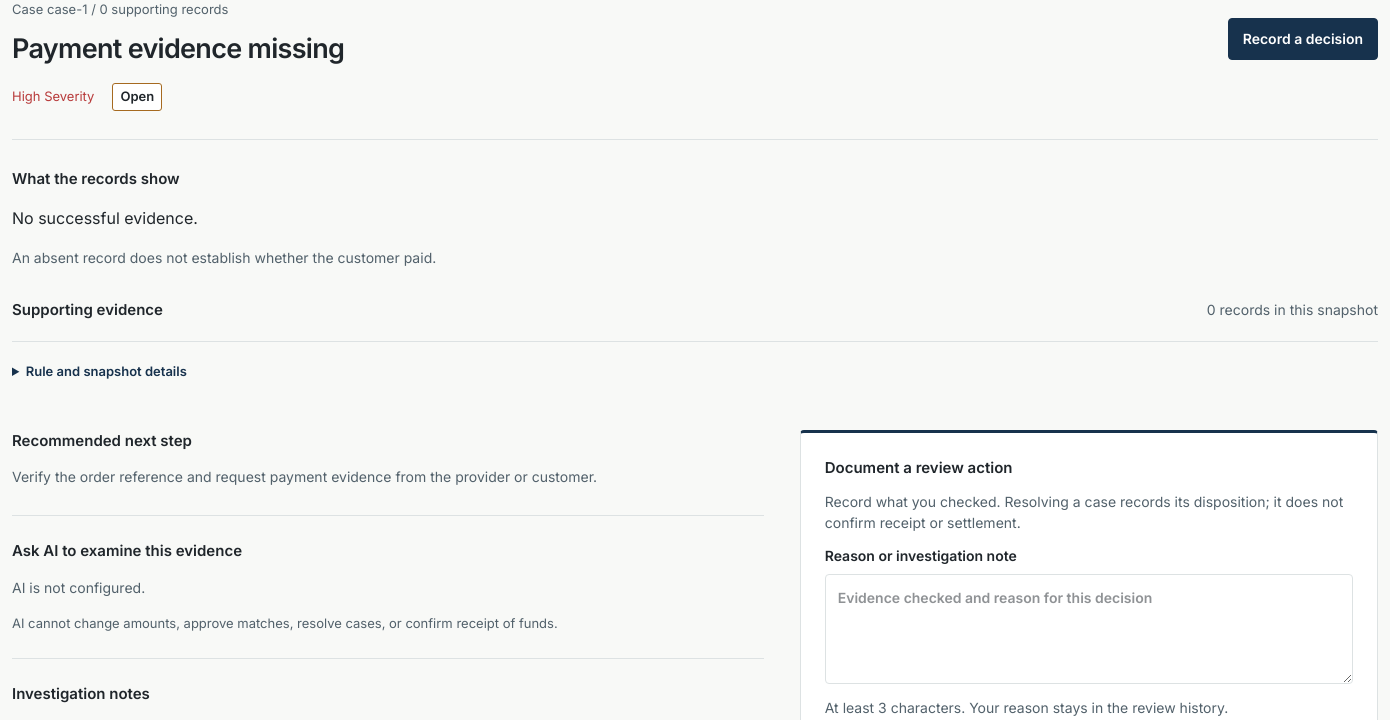
Test: requires a documented reason and submits the current case version
The image size is (1390, 720).
Type "Checked the source statement." into the text box labelled "Reason or investigation note".
click(1089, 629); type("Checked the source statement.")  # box left=825, top=574, right=1353, bottom=684
(page scrolled)
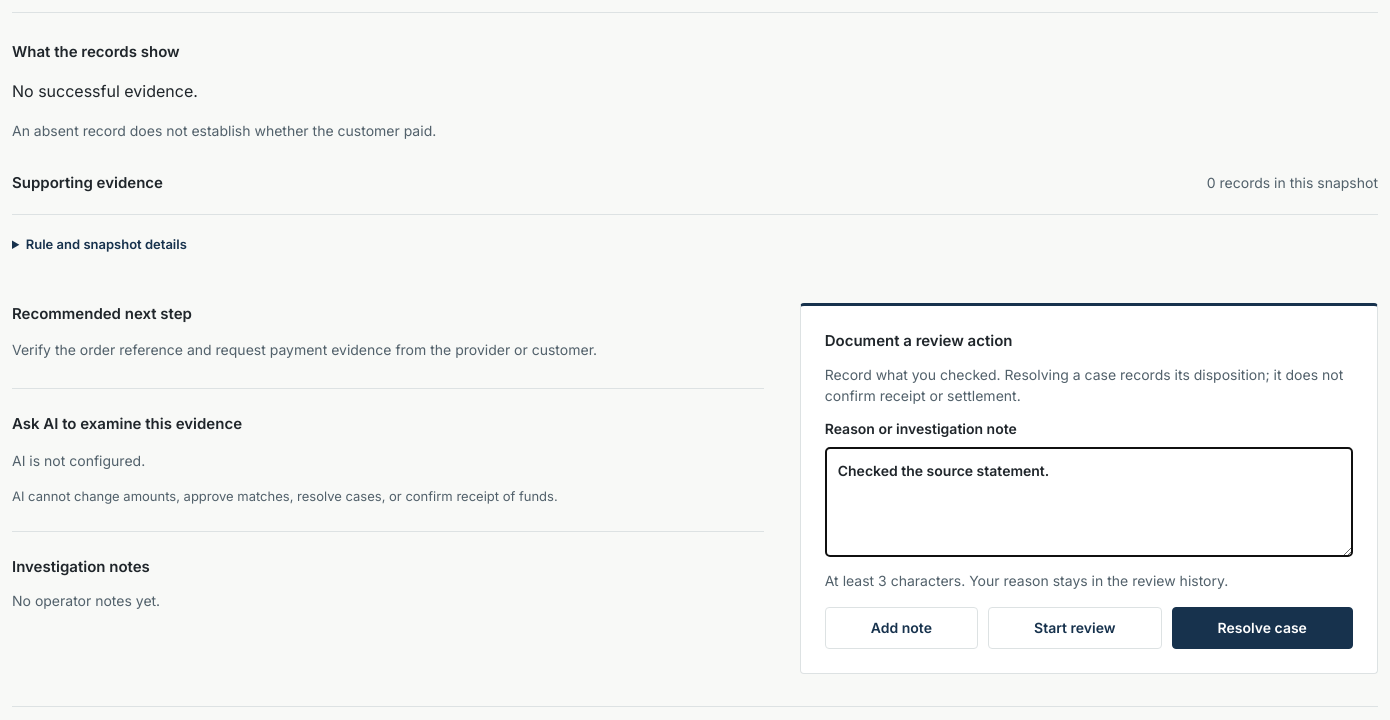
Click the button "Resolve case".
click(1262, 628)  # box left=1172, top=607, right=1353, bottom=649
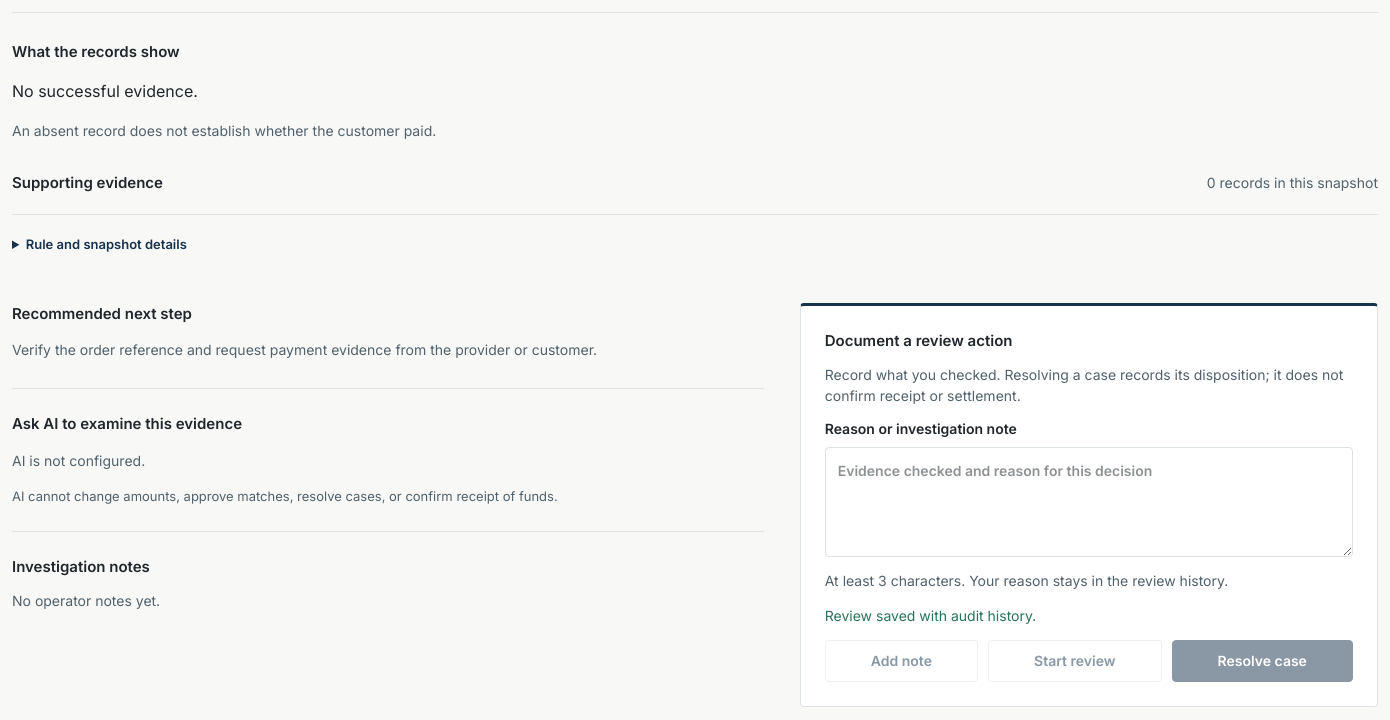
Result: the text "Review saved with audit history." is shown at left=825, top=607, right=1036, bottom=624
